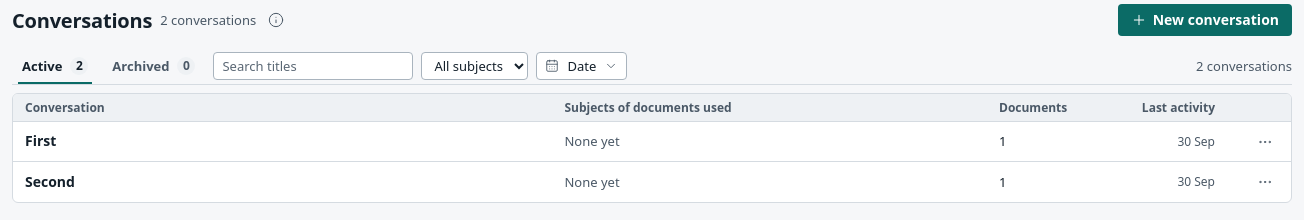
ConversationsPage › narrows the list by subject, counting the bar and keeping the header total
This screenshot has width=1304, height=220.
Step 1. Select "Biology" in the dropdown named "Subject" → coordinates (475, 66), box x1=422 y1=52 x2=528 y2=80
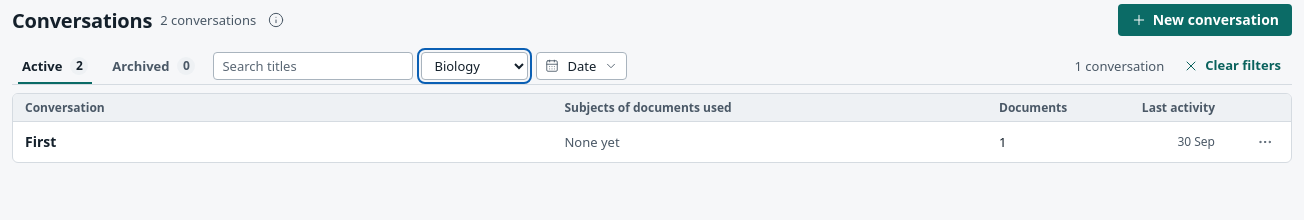
Expected: the text "2 conversations" is shown, x1=160 y1=11 x2=256 y2=29
Expected: the text "1 conversation" is shown, x1=1074 y1=57 x2=1164 y2=75
Expected: the link "Second" is gone
